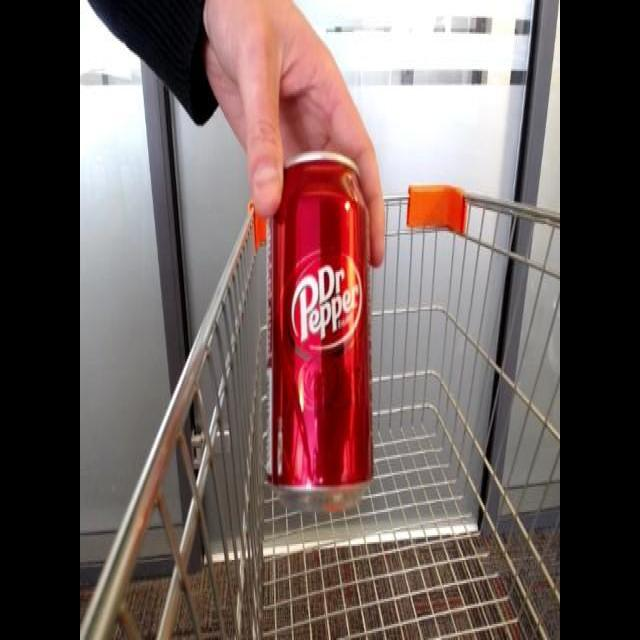Dr Pepper: (248, 153, 380, 510)
